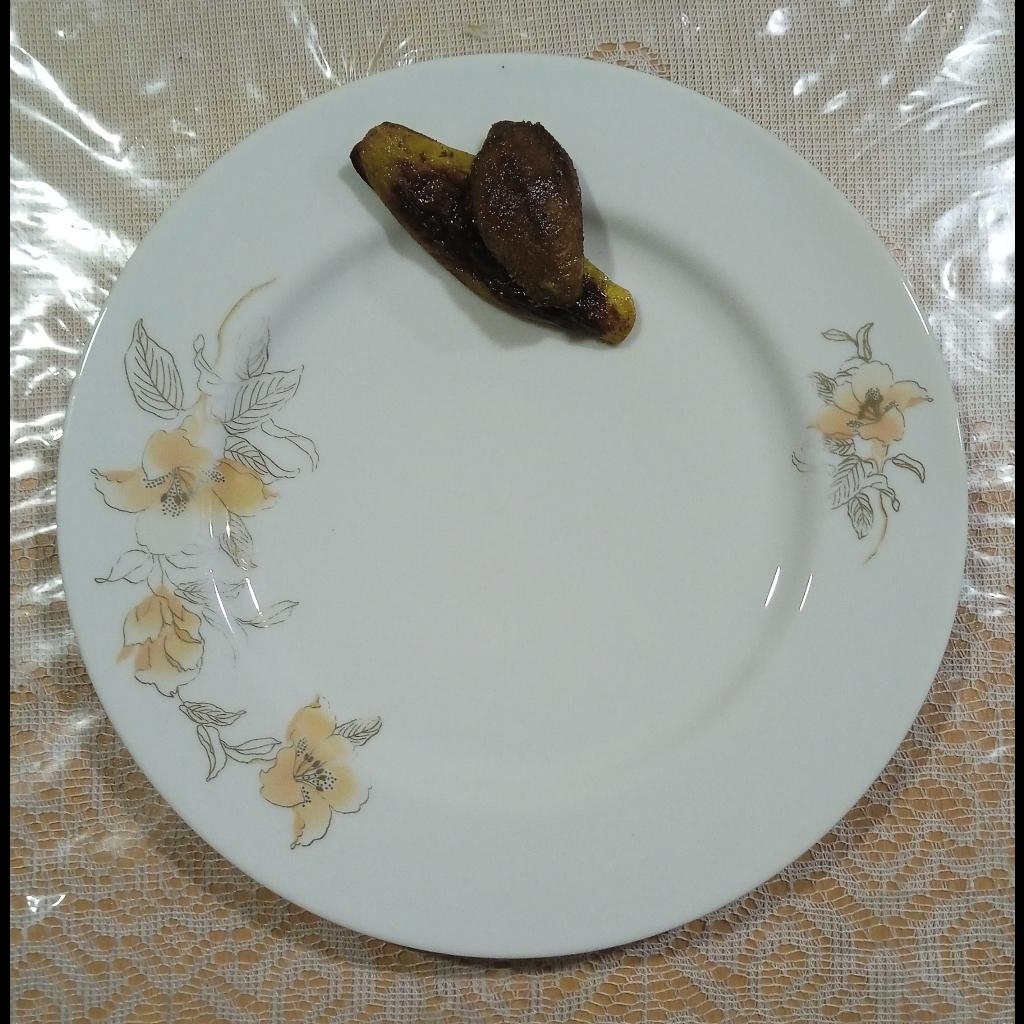potol: (349, 119, 636, 345)
